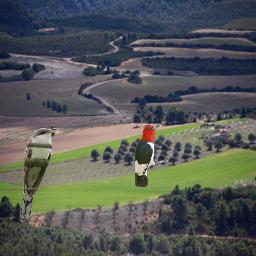Cuckoo: (20, 128, 58, 222)
Woodpecker: (134, 124, 168, 187)
